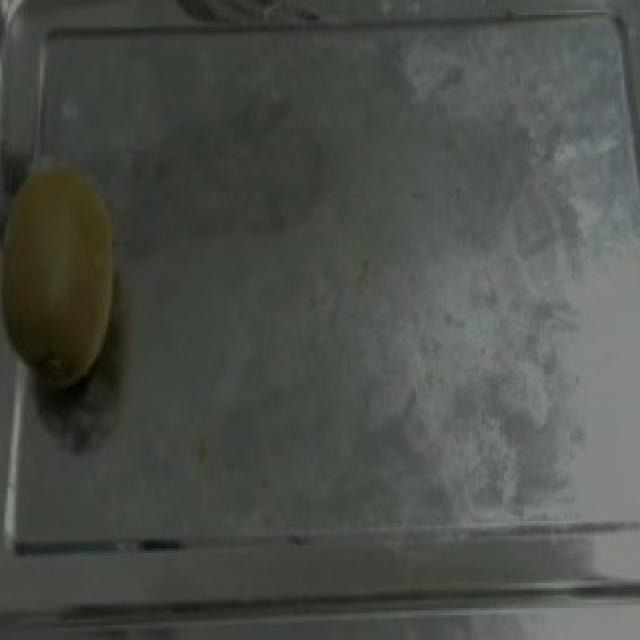Fruit: (0, 139, 142, 399)
